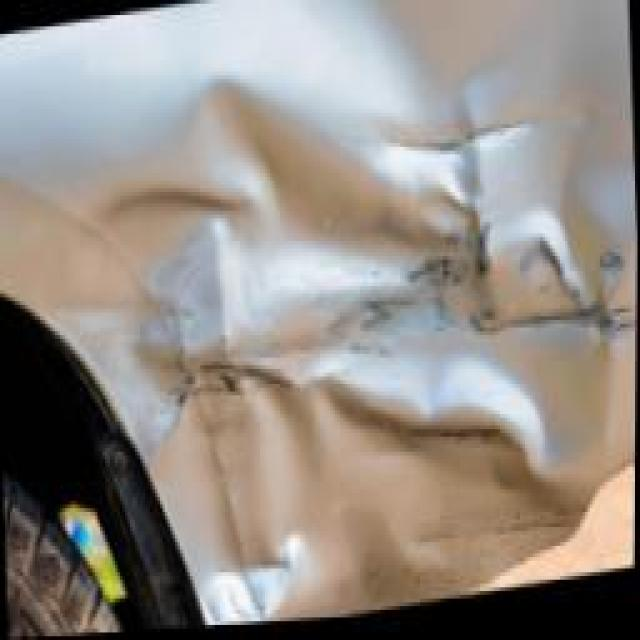Bumper: (68, 0, 640, 636)
